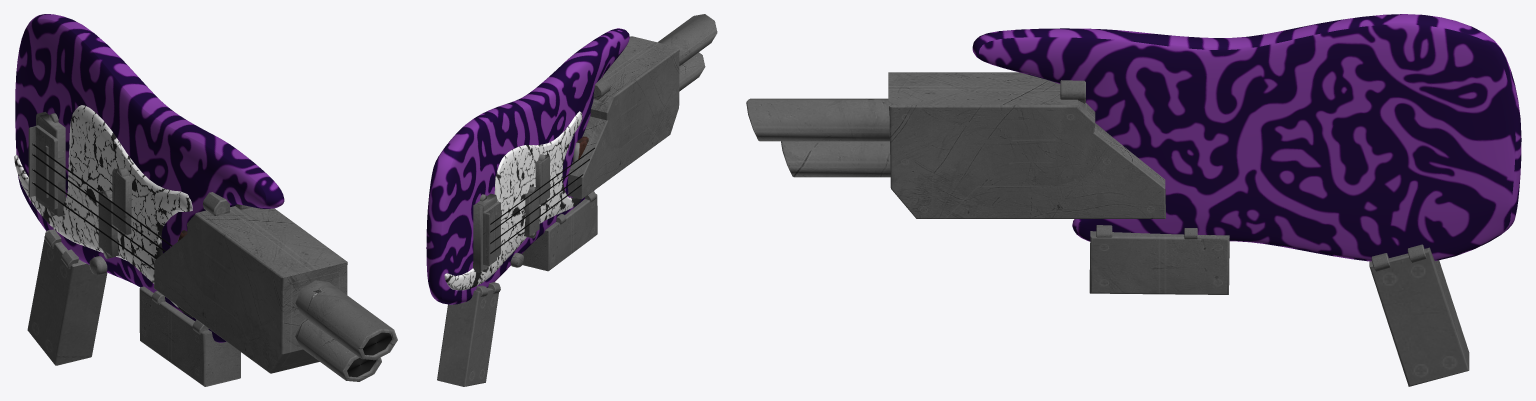
The model's file is Guitar_Gun.fbx.
3 renders of one model, left to right at view 1: azimuth 30°, elevation 25°; view 2: azimuth 150°, elevation 25°; view 3: azimuth 270°, elevation 25°, orthographic. The views are drawn at different scales.
Parts seen in each view (by area): view 1: Guitar_Gun; view 2: Guitar_Gun; view 3: Guitar_Gun.
Boxes of the visible parts, <box> form: Guitar_Gun: <box>14,14,397,386</box>; Guitar_Gun: <box>426,14,717,386</box>; Guitar_Gun: <box>746,14,1521,386</box>.
Size of the model in its own units: 6.58 by 31.55 by 61.22.
